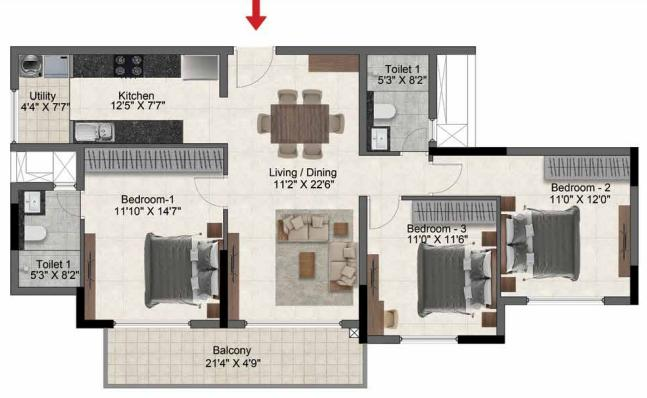Balcony: (105, 324, 365, 382)
Bed: (500, 207, 579, 282), (414, 247, 495, 314), (144, 237, 220, 304)
Bedroom: (81, 151, 226, 325), (499, 154, 635, 302), (363, 198, 501, 340)
Dining Room: (228, 53, 367, 200)
Dining table: (255, 88, 345, 160)
Kitchen: (69, 53, 223, 140)
Living Room: (228, 195, 357, 325)
Sofa: (275, 213, 331, 242), (326, 241, 358, 288)
Wardrobe: (84, 151, 225, 174), (544, 156, 631, 178), (413, 202, 497, 223)
commode: (375, 105, 396, 121), (24, 226, 45, 240)
door: (233, 52, 276, 87), (429, 160, 464, 197), (193, 176, 227, 208), (368, 197, 399, 226), (56, 187, 83, 217), (402, 126, 431, 153)
fridge: (181, 55, 221, 82)
kitchen-slab: (70, 120, 182, 145), (73, 53, 179, 78)
sink: (70, 122, 114, 144), (368, 127, 390, 150), (23, 190, 40, 214)
stove: (115, 54, 142, 79)
toilet: (363, 53, 434, 152), (16, 187, 82, 292)
tv: (84, 237, 97, 314), (619, 206, 633, 276), (228, 236, 241, 297)
utility: (15, 51, 69, 149)
washing-machine: (43, 53, 69, 79)
